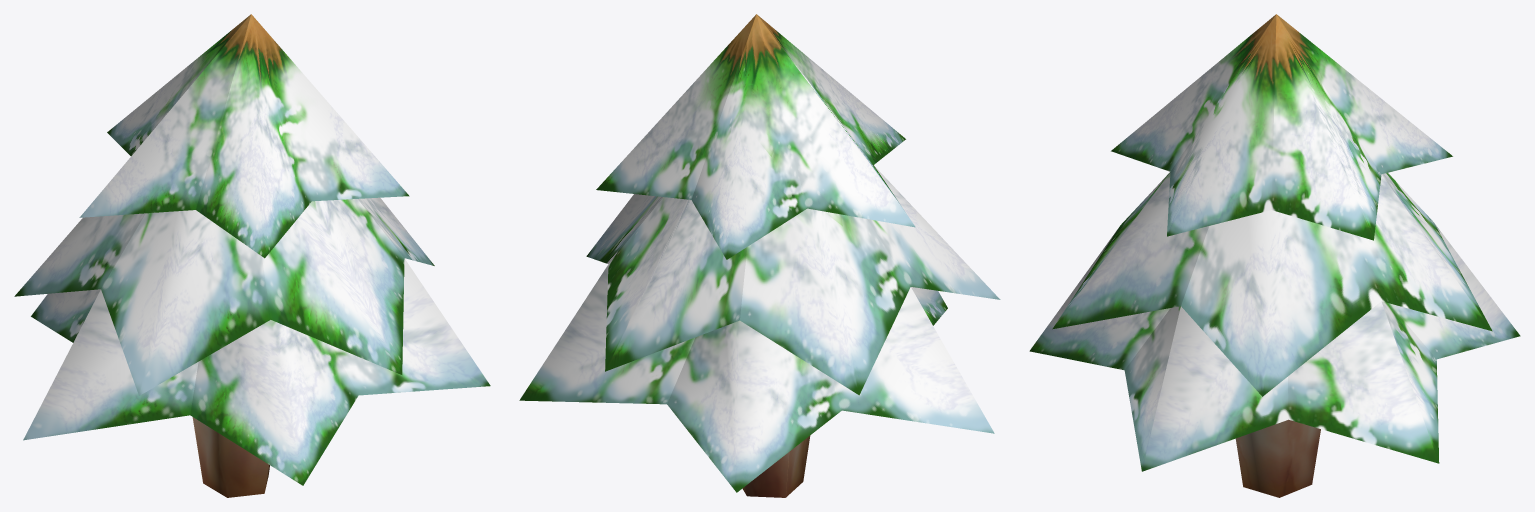
The model's file is BKS_Set3_ConiferB.fbx.
3 views of the same model, side by side, from view 1: azimuth 30°, elevation 25°; view 2: azimuth 150°, elevation 25°; view 3: azimuth 270°, elevation 25° (orthographic).
Parts seen in each view (by area): view 1: coniferB; view 2: coniferB; view 3: coniferB.
Part boxes in pixels (bbox=[...]): coniferB: bbox=[14, 14, 490, 497]; coniferB: bbox=[519, 14, 1000, 497]; coniferB: bbox=[1029, 14, 1520, 497].
Bounding box in the file's own units: 6.22 × 6.77 × 6.35.
